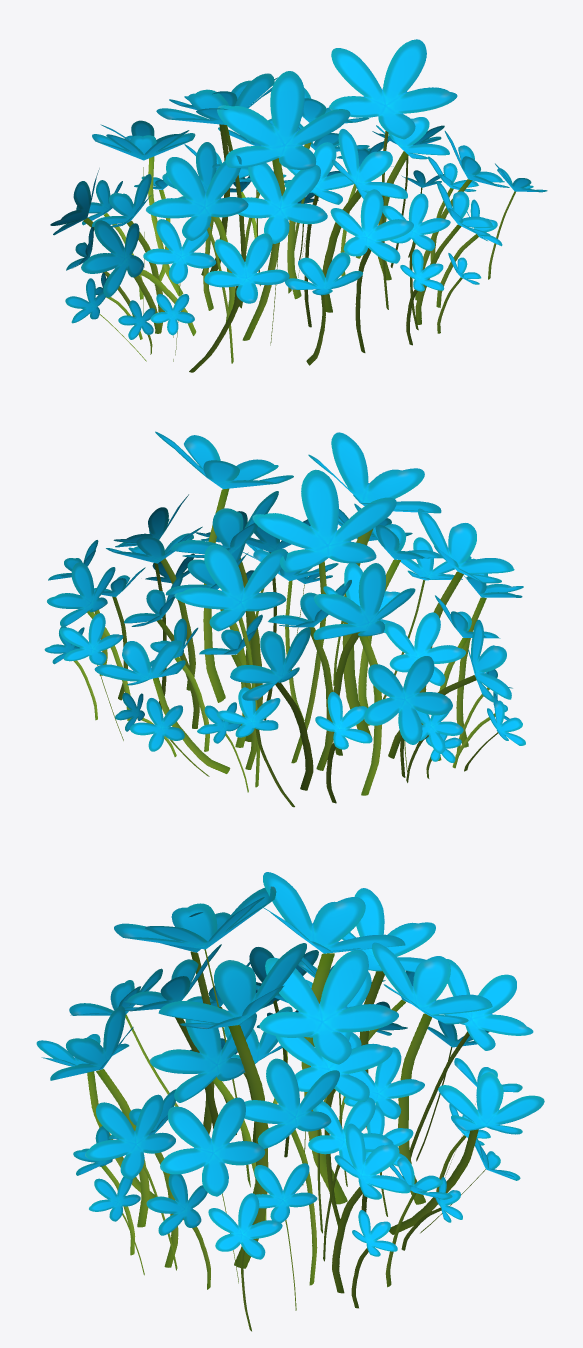
Rendered from Flowers_Blue.fbx.
3 views of the same model, one above another, from view 1: azimuth 30°, elevation 25°; view 2: azimuth 150°, elevation 25°; view 3: azimuth 270°, elevation 25° (orthographic). The views are drawn at different scales.
Visible parts, largest first — view 1: Flowers_Blue_lp; view 2: Flowers_Blue_lp; view 3: Flowers_Blue_lp.
Boxes of the visible parts, left/top/right/bottom form: Flowers_Blue_lp: left=50, top=39, right=547, bottom=372; Flowers_Blue_lp: left=44, top=431, right=525, bottom=807; Flowers_Blue_lp: left=36, top=872, right=544, bottom=1331.
Size of the model in its own units: 89.7 by 50.05 by 71.33.
Materials: 1 (1 with a texture image).
